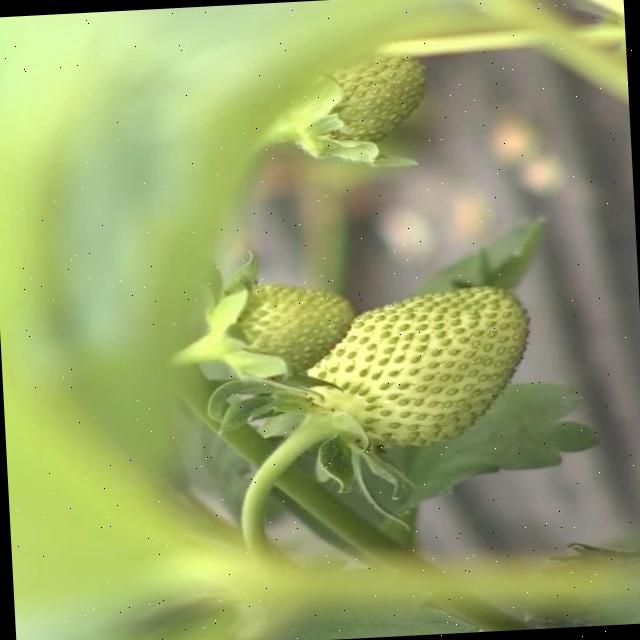strawberry: (294, 284, 536, 451), (208, 278, 355, 376), (284, 52, 432, 148)
